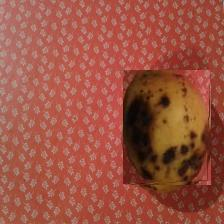Mango Semirotten: (124, 71, 212, 186)
